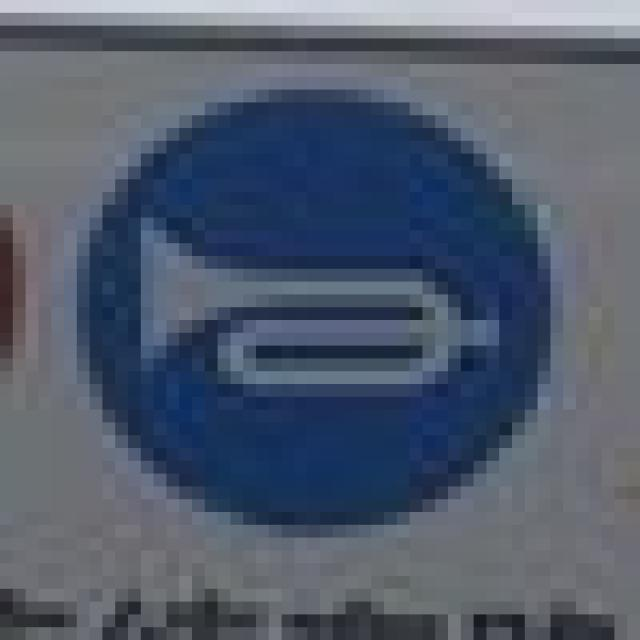COMPULSARY_SOUND_HORN: (75, 92, 563, 530)
